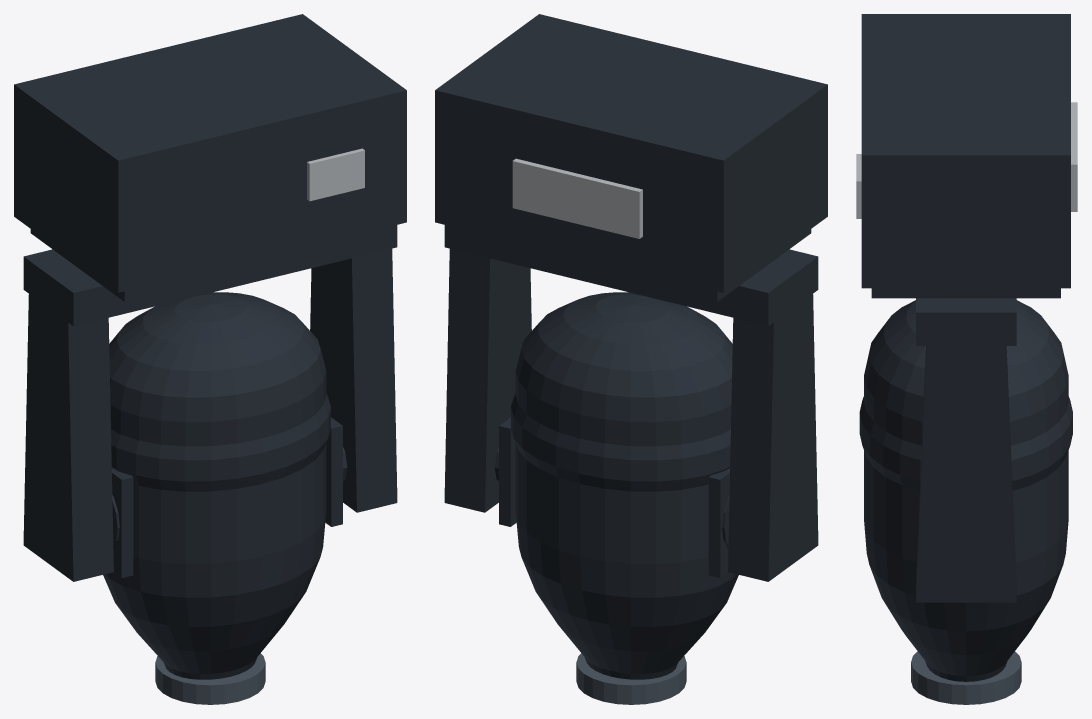
File: moving-head-profile-large-no-clamp.glb
3 renders of one model, left to right at view 1: azimuth 30°, elevation 25°; view 2: azimuth 150°, elevation 25°; view 3: azimuth 270°, elevation 25°, orthographic.
Parts seen in each view (by area): view 1: moving-base, head-body, yoke-left, yoke-right, yoke-crossbar, head-cheeks, lens-ring, base-display; view 2: moving-base, head-body, yoke-left, yoke-right, yoke-crossbar, base-connectors, head-cheeks, lens-ring; view 3: moving-base, head-body, yoke-right, yoke-crossbar, lens-ring, base-connectors, base-display.
Boxes of the visible parts, x1,y1,x2,y2 form: moving-base: (14,14,406,301); head-body: (103,292,330,679); yoke-left: (23,294,113,581); yoke-right: (310,248,397,512); yoke-crossbar: (23,225,397,326); head-cheeks: (111,417,343,577); lens-ring: (155,653,265,704); base-display: (307,148,364,201); moving-base: (435,14,827,301); head-body: (511,292,738,679); yoke-left: (728,294,818,581); yoke-right: (444,248,531,512); yoke-crossbar: (444,225,818,326); base-connectors: (512,158,642,238); head-cheeks: (498,417,730,577); lens-ring: (576,653,686,704); moving-base: (861,14,1070,298); head-body: (859,300,1072,681); yoke-right: (916,346,1016,602); yoke-crossbar: (916,298,1016,345); lens-ring: (911,651,1021,704); base-connectors: (1071,102,1077,211); base-display: (856,154,861,218).
Bounding box in the file's own units: 0.561 × 0.9836 × 0.3305.
